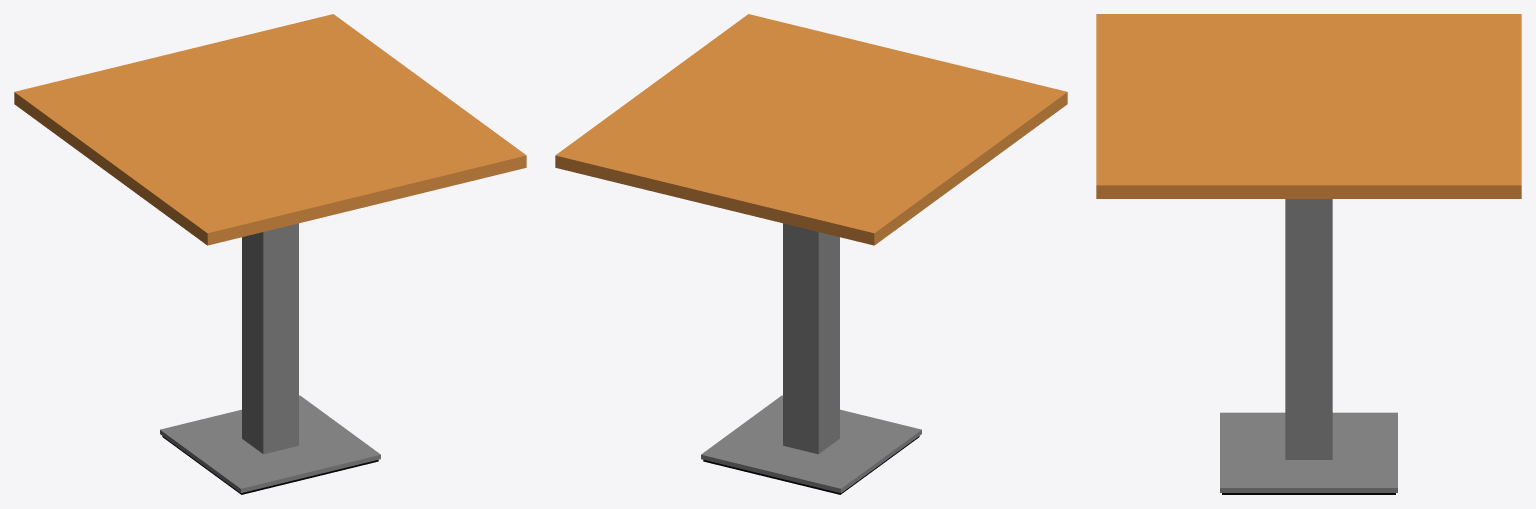
Rendered from flux_square_table.fbx.
3 renders of one model, left to right at view 1: azimuth 30°, elevation 25°; view 2: azimuth 150°, elevation 25°; view 3: azimuth 270°, elevation 25°, orthographic. The views are drawn at different scales.
Parts seen in each view (by area): view 1: Cube; view 2: Cube; view 3: Cube.
Part boxes in pixels (x1,y1,x2,y2): Cube: [14, 14, 526, 494]; Cube: [555, 14, 1067, 494]; Cube: [1096, 14, 1521, 494].
Bounding box in the file's own units: 364 × 355 × 382.
